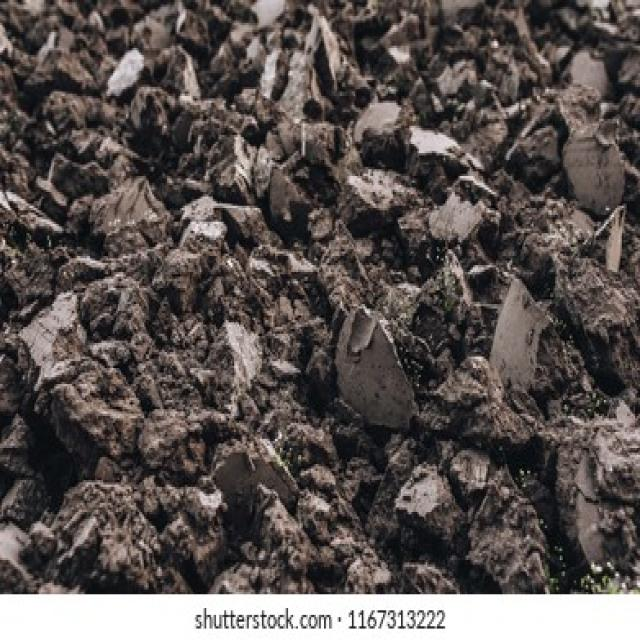Black Soil: (72, 58, 563, 540)
